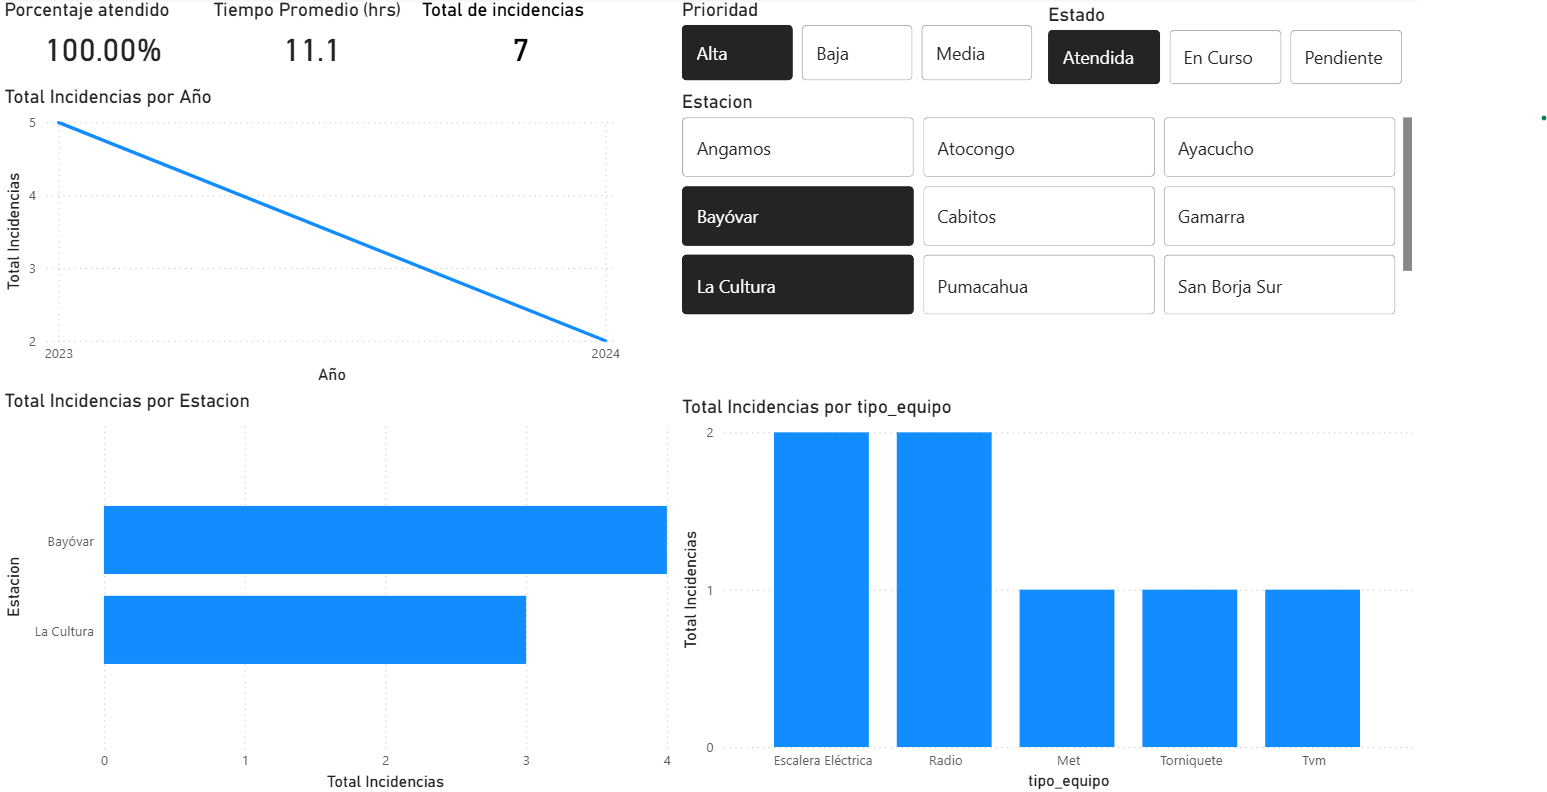

What the dashboard file says about the page in this screenshot:
{"tool":"powerbi","page":{"name":"Página 1","canvas":[1280,720],"ordinal":0},"visuals":[{"type":"card","title":"Total de incidencias","fields":{"Values":["Incidencias.Total Incidencias"]},"box":[376.6,1.2,188.3,70.9],"z":0},{"type":"card","title":"Tiempo Promedio (hrs)","fields":{"Values":["Incidencias.Tiempo Promedio Atención"]},"box":[188.3,1.2,188.3,70.9],"z":1000},{"type":"barChart","fields":{"Category":["Incidencias.estacion"],"Y":["Incidencias.Total Incidencias"]},"box":[0,353.4,611.4,366.8],"z":2000},{"type":"columnChart","fields":{"Category":["Incidencias.tipo_equipo"],"Y":["Incidencias.Total Incidencias"]},"box":[611.4,359.5,668.9,360.7],"z":3000},{"type":"lineChart","fields":{"Category":["Incidencias.mes_reporte.Variación.Jerarquía de fechas.Año","Incidencias.mes_reporte.Variación.Jerarquía de fechas.Trimestre","Incidencias.mes_reporte.Variación.Jerarquía de fechas.Mes","Incidencias.mes_reporte.Variación.Jerarquía de fechas.Día"],"Y":["Incidencias.Total Incidencias"]},"box":[0,79.5,564.9,273.9],"z":4000},{"type":"advancedSlicerVisual","title":"Prioridad","fields":{"Values":["Incidencias.prioridad"]},"box":[611.4,1.2,328.9,79.5],"z":5000},{"type":"advancedSlicerVisual","title":"Estacion","fields":{"Values":["Incidencias.estacion"]},"box":[611.1,84.4,668.9,209.1],"z":6000},{"type":"card","title":"Porcentaje atendido","fields":{"Values":["Incidencias.% Atendidas"]},"box":[0,1.2,188.3,70.9],"z":7000},{"type":"advancedSlicerVisual","title":"Estado","fields":{"Values":["Incidencias.estado"]},"box":[940.8,5.7,329.3,78.4],"z":8000}]}

Visuals, with their boxes on the page's 1280x720 design canvas (x1, y1, x2, y2). These are canvas units, not pixel positions in the 1547x792 screenshot, which may show the page scaled, cropped or inside an application window:
"Total de incidencias" card: box=[377, 1, 565, 72]
"Tiempo Promedio (hrs)" card: box=[188, 1, 377, 72]
barChart - Incidencias.estacion x Incidencias.Total Incidencias: box=[0, 353, 611, 720]
columnChart - Incidencias.tipo_equipo x Incidencias.Total Incidencias: box=[611, 360, 1280, 720]
lineChart - Incidencias.mes_reporte.Variación.Jerarquía de fechas.Año x Incidencias.mes_reporte.Variación.Jerarquía de fechas.Trimestre: box=[0, 80, 565, 353]
"Prioridad" advancedSlicerVisual: box=[611, 1, 940, 81]
"Estacion" advancedSlicerVisual: box=[611, 84, 1280, 294]
"Porcentaje atendido" card: box=[0, 1, 188, 72]
"Estado" advancedSlicerVisual: box=[941, 6, 1270, 84]
